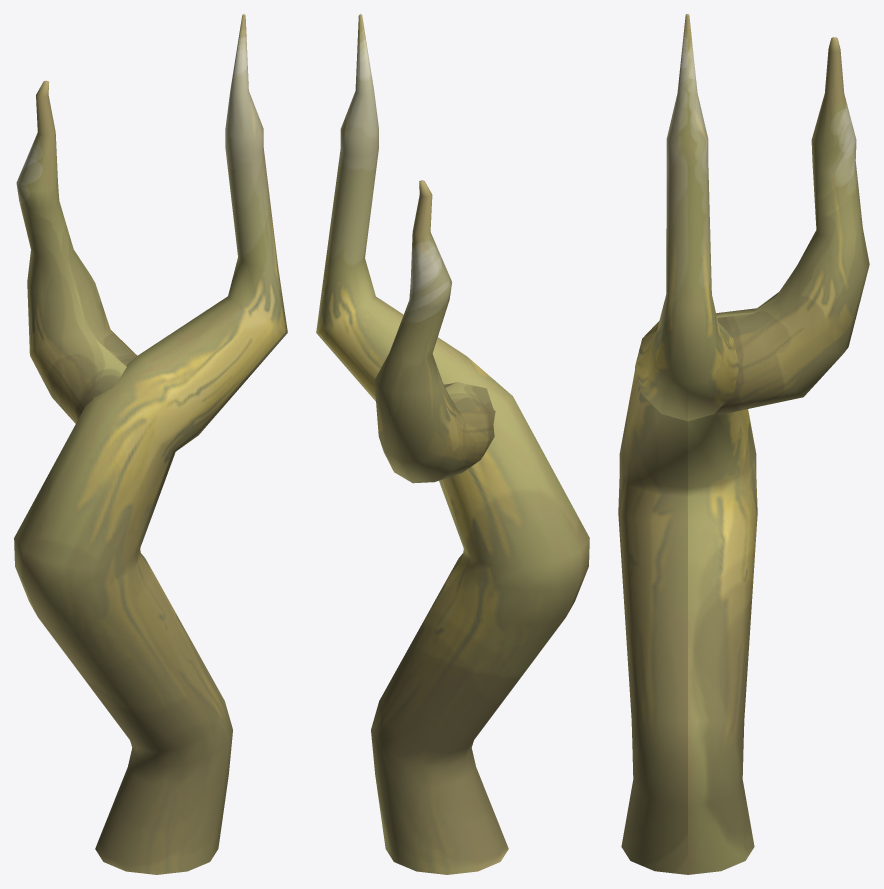
The model's file is Branch_05.fbx.
3 views of the same model, side by side, from view 1: azimuth 30°, elevation 25°; view 2: azimuth 150°, elevation 25°; view 3: azimuth 270°, elevation 25° (orthographic). The views are drawn at different scales.
Parts seen in each view (by area): view 1: Mesh; view 2: Mesh; view 3: Mesh.
Part boxes in pixels (left/top/right/bottom): Mesh: left=14, top=14, right=287, bottom=874; Mesh: left=316, top=14, right=589, bottom=874; Mesh: left=618, top=14, right=869, bottom=874.
Size of the model in its own units: 28.27 by 84.45 by 21.9.
